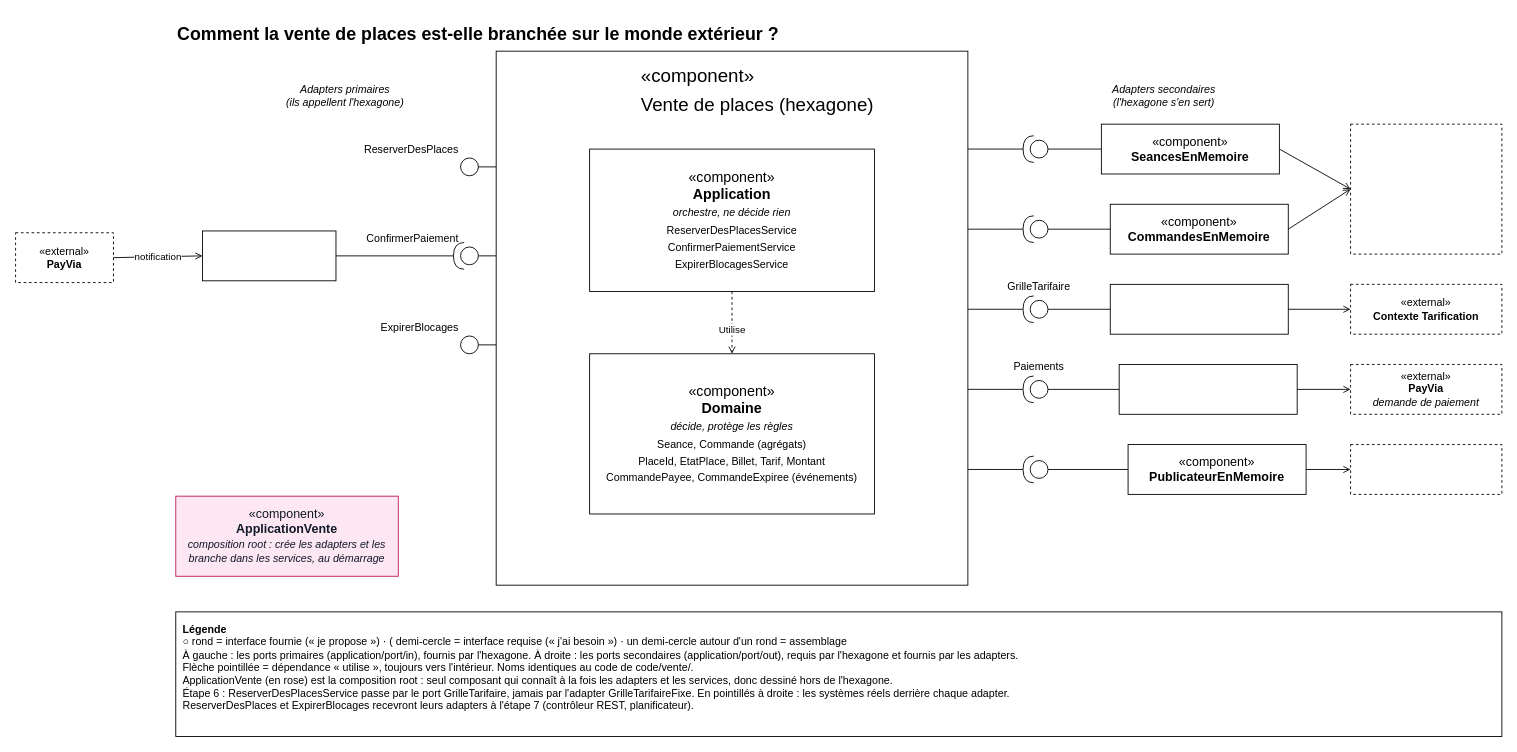
This 1517x752 diagram has some shape labels left out. Each missing label, with the centre of its shape:
"Commandes" belongs at point 1038,228.
"PublicateurEvenements" belongs at point 1038,469.
"Seances" belongs at point 1038,148.
"«component» GrilleTarifaireFixe" belongs at point 1198,308.
"«component» PaiementsSimules" belongs at point 1207,389.
"«component» WebhookPayVia" belongs at point 269,255.
"«external» Autres contextes Contrôle, Déclarations…" belongs at point 1426,469.
"«external» Base de données en mémoire au TP, PostgreSQL en production (C1)" belongs at point 1426,188.
